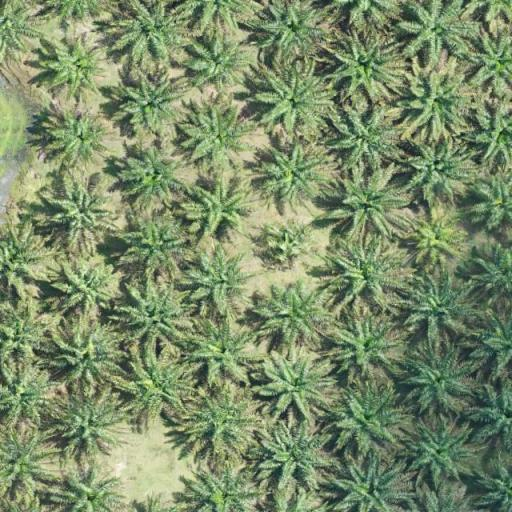Ganoderma: (413, 218, 463, 261)
